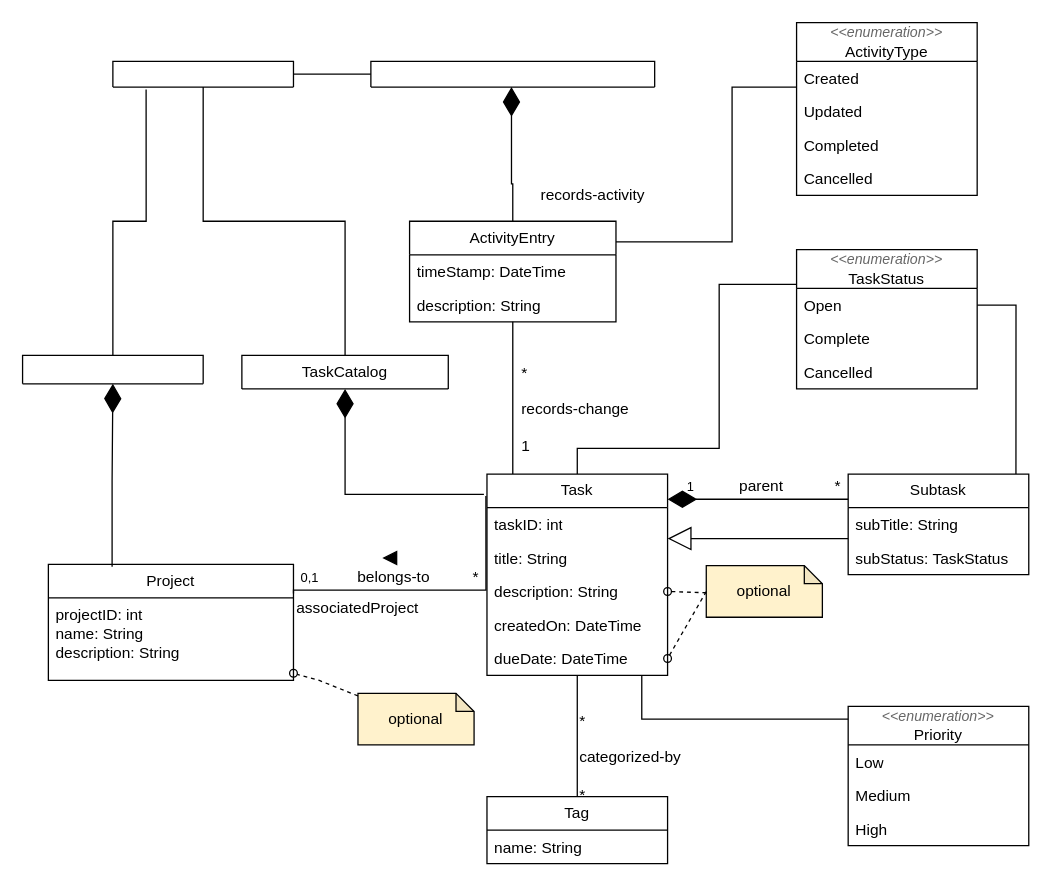
This 1051x890 diagram has some shape labels left out. The shapes that lost their labels are listed below. From the top down, each one's centre as x and y in pixels, then its label:
At [202,73]: "Console".
At [512,73]: "History".
At [112,369]: "ProjCatalog".
